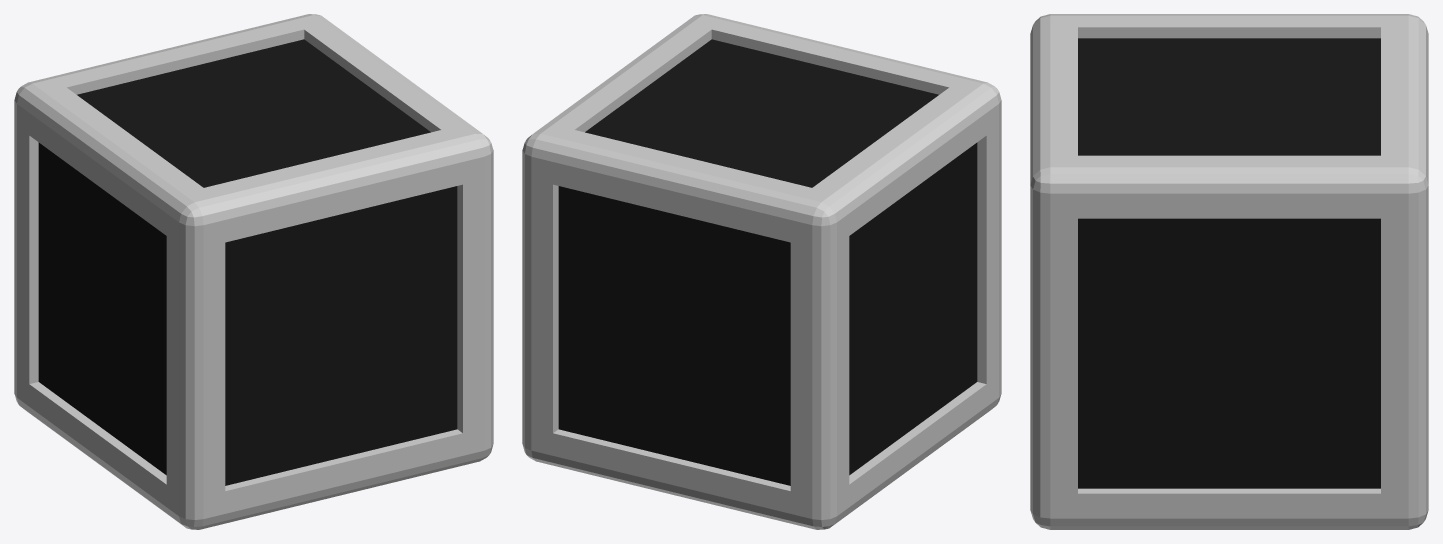
Rendered from PickupOil.fbx.
3 views of the same model, side by side, from view 1: azimuth 30°, elevation 25°; view 2: azimuth 150°, elevation 25°; view 3: azimuth 270°, elevation 25° (orthographic). The views are drawn at different scales.
Visible parts, largest first — view 1: Cube; view 2: Cube; view 3: Cube.
Part boxes in pixels (x1=…): Cube: x1=14, y1=14, x2=493, y2=529; Cube: x1=522, y1=14, x2=1001, y2=529; Cube: x1=1030, y1=14, x2=1428, y2=529.
Bounding box in the file's own units: 1.5 × 1.5 × 1.5.
